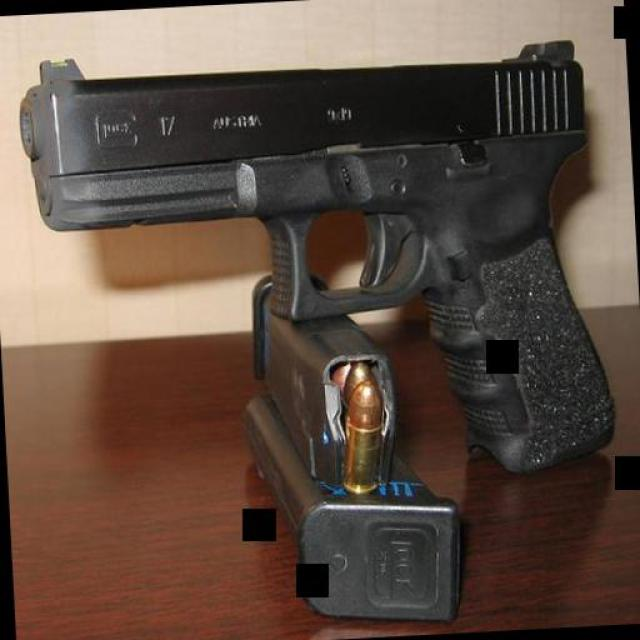gun: (8, 19, 618, 498)
